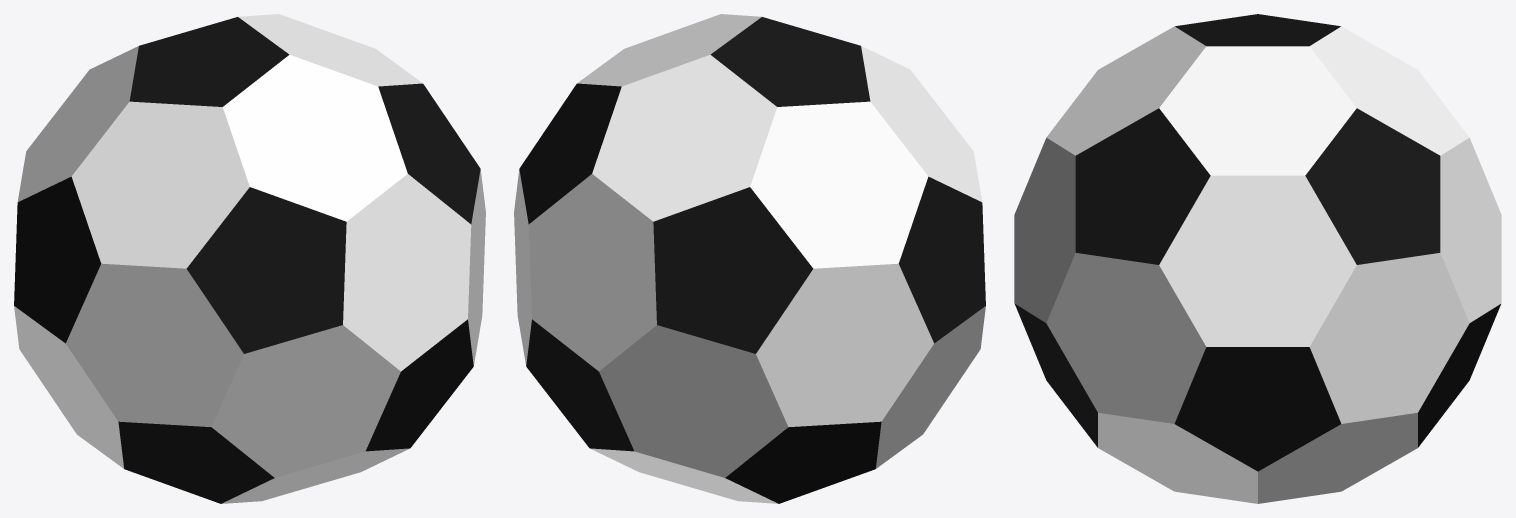
File: Football.fbx
3 views of the same model, side by side, from view 1: azimuth 30°, elevation 25°; view 2: azimuth 150°, elevation 25°; view 3: azimuth 270°, elevation 25° (orthographic).
Parts seen in each view (by area): view 1: Football; view 2: Football; view 3: Football.
Boxes of the visible parts, x1,y1,x2,y2 form: Football: [14, 14, 485, 503]; Football: [514, 14, 985, 503]; Football: [1014, 14, 1501, 503].
Size of the model in its own units: 11.75 by 11.75 by 11.81.
